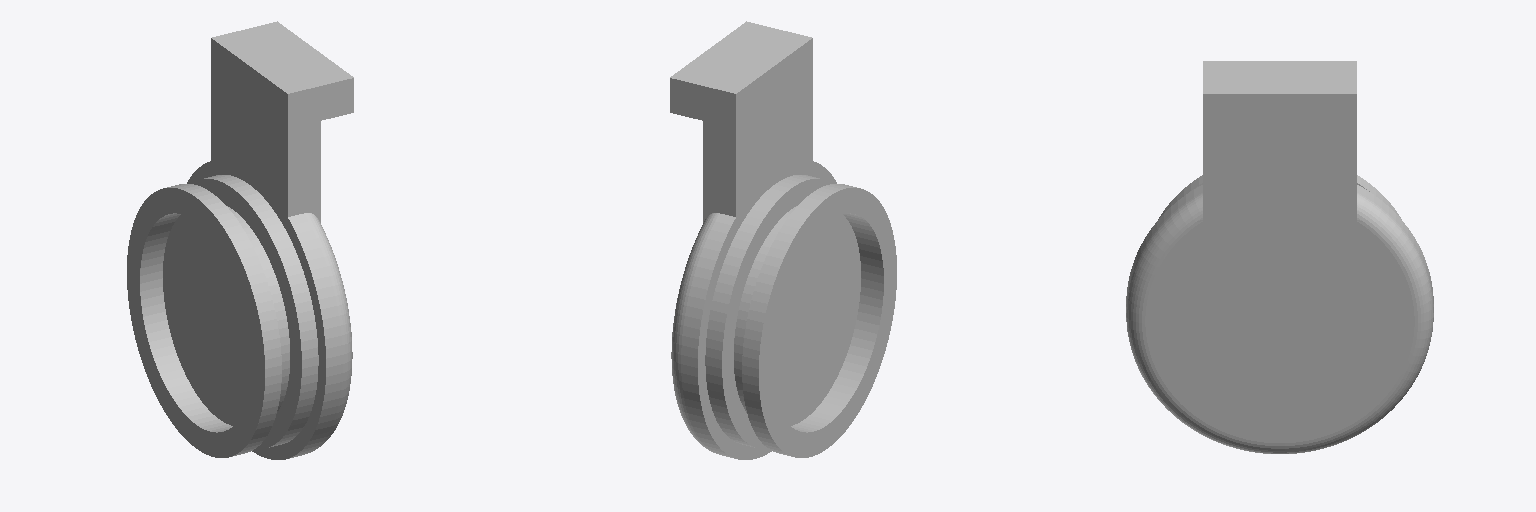
File: CameraCapL.obj
The picture shows the model from 3 angles: view 1: azimuth 30°, elevation 25°; view 2: azimuth 150°, elevation 25°; view 3: azimuth 270°, elevation 25°; orthographic projection.
Visible parts, largest first — view 1: CameraCapL_Camera_Cap_v9; view 2: CameraCapL_Camera_Cap_v9; view 3: CameraCapL_Camera_Cap_v9.
Boxes of the visible parts, box(x1,y1,x2,y2) form: CameraCapL_Camera_Cap_v9: box(127, 21, 353, 459); CameraCapL_Camera_Cap_v9: box(670, 21, 896, 459); CameraCapL_Camera_Cap_v9: box(1126, 61, 1433, 453).
Size of the model in its own units: 0.018 by 0.055 by 0.04.